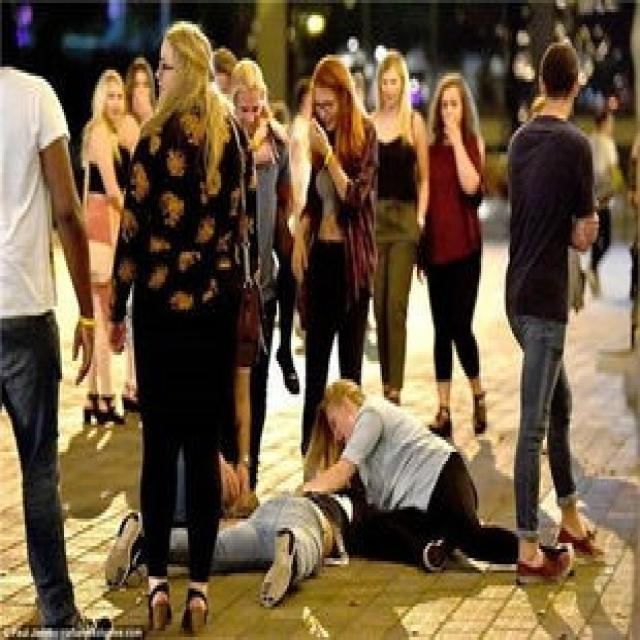10-: (2, 0, 615, 625)
down: (87, 433, 454, 610), (297, 352, 547, 579)
